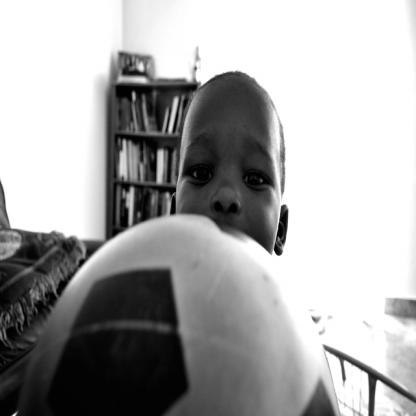Ball: (16, 214, 341, 416)
